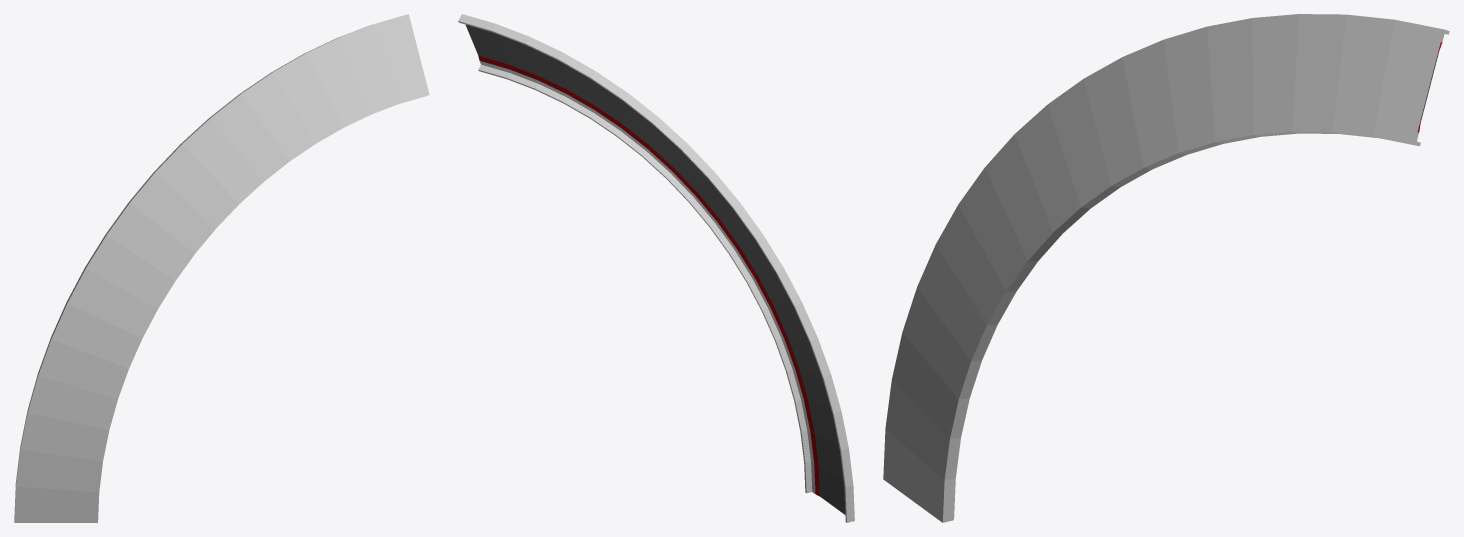
File: Bend_Pitch2.fbx
3 views of the same model, side by side, from view 1: azimuth 30°, elevation 25°; view 2: azimuth 150°, elevation 25°; view 3: azimuth 330°, elevation 25° (orthographic). The views are drawn at different scales.
Parts seen in each view (by area): view 1: Bend_Pitch2; view 2: Bend_Pitch2; view 3: Bend_Pitch2.
Boxes of the visible parts, box(x1,y1,x2,y2) form: Bend_Pitch2: box(14, 14, 429, 522); Bend_Pitch2: box(458, 14, 854, 522); Bend_Pitch2: box(883, 14, 1449, 522).
Bounding box in the file's own units: 6964 × 6964 × 761.
